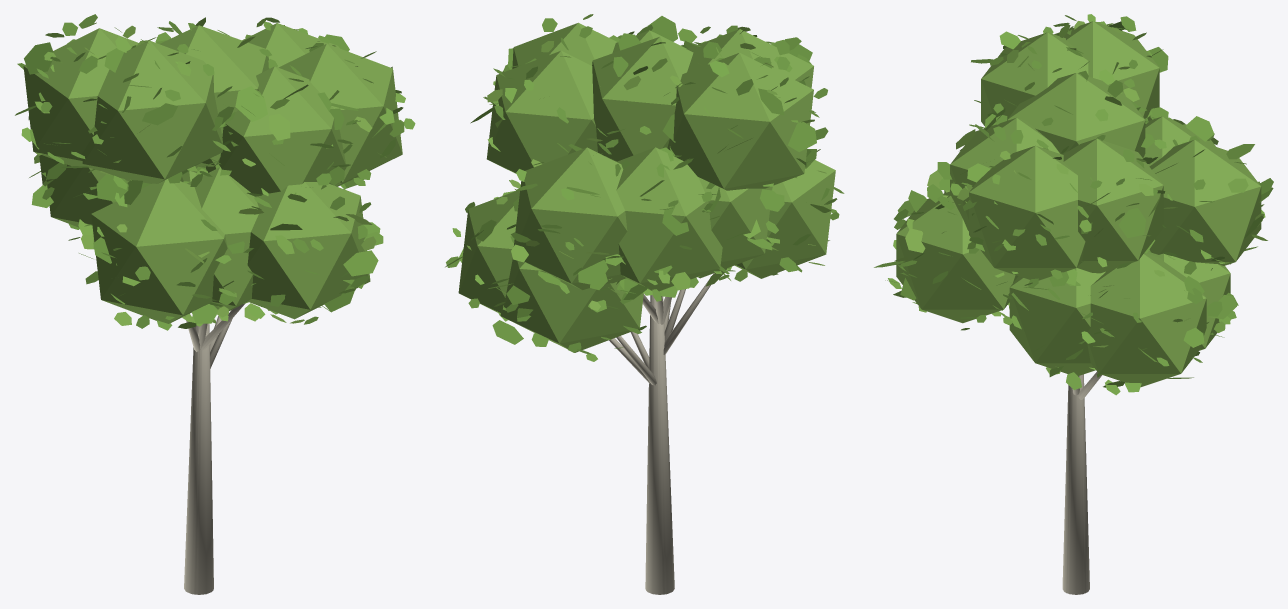
File: SummerBirch.fbx
3 renders of one model, left to right at view 1: azimuth 30°, elevation 25°; view 2: azimuth 150°, elevation 25°; view 3: azimuth 270°, elevation 25°, orthographic. The views are drawn at different scales.
Visible parts, largest first — view 1: LOD2_EnvLeafBroad, LOD0_EnvLeafBroad, LOD1_EnvLeafBroad, LOD0_EnvBirchBark, LOD1_EnvBirchBark; view 2: LOD2_EnvLeafBroad, LOD0_EnvLeafBroad, LOD0_EnvBirchBark, LOD1_EnvLeafBroad, LOD1_EnvBirchBark; view 3: LOD2_EnvLeafBroad, LOD0_EnvLeafBroad, LOD1_EnvLeafBroad, LOD0_EnvBirchBark, LOD1_EnvBirchBark.
Boxes of the visible parts, x1,y1,x2,y2 form: LOD2_EnvLeafBroad: (23,23,402,323); LOD0_EnvLeafBroad: (21,14,415,330); LOD1_EnvLeafBroad: (15,17,395,323); LOD0_EnvBirchBark: (184,303,245,594); LOD1_EnvBirchBark: (188,303,244,594); LOD2_EnvLeafBroad: (458,22,835,352); LOD0_EnvLeafBroad: (446,14,844,361); LOD0_EnvBirchBark: (609,273,714,594); LOD1_EnvLeafBroad: (445,16,831,344); LOD1_EnvBirchBark: (609,285,709,594); LOD2_EnvLeafBroad: (896,21,1261,386); LOD0_EnvLeafBroad: (881,14,1267,395); LOD1_EnvLeafBroad: (874,21,1273,387); LOD0_EnvBirchBark: (1062,372,1101,594); LOD1_EnvBirchBark: (1066,372,1099,593).
Size of the model in its own units: 602 by 934 by 641.
